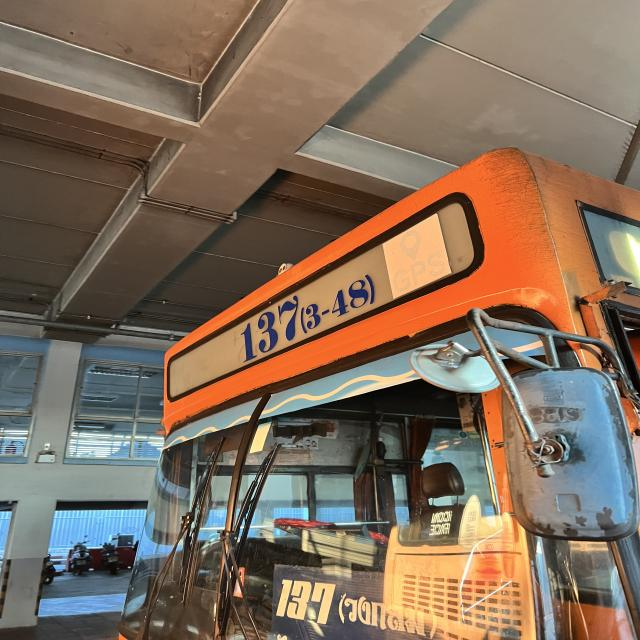BMTA-bus: (120, 148, 640, 640)
Bus-Line-Number: (233, 255, 385, 367)
Destination-Sign-Normal: (268, 564, 445, 640)
